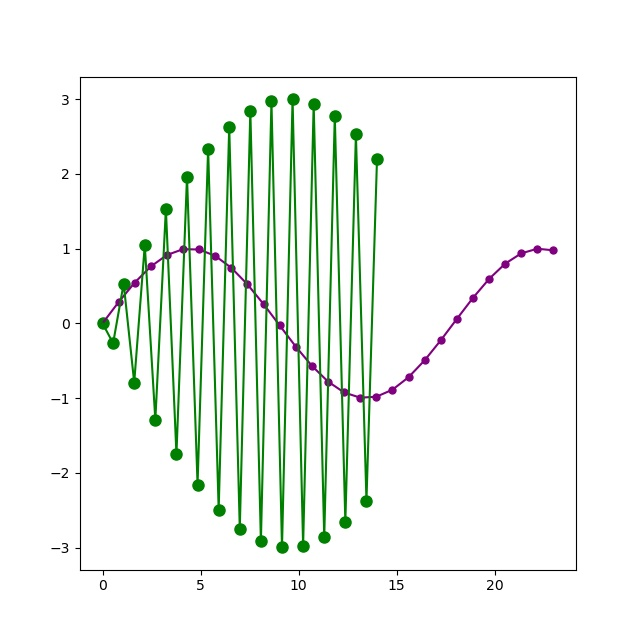circle: (97, 317, 110, 330), (107, 337, 120, 350), (118, 278, 131, 291), (128, 377, 141, 390), (139, 239, 152, 252), (149, 414, 162, 427), (160, 203, 173, 216), (170, 448, 183, 461), (181, 171, 194, 184), (192, 479, 205, 492), (202, 143, 215, 156), (213, 504, 226, 517), (223, 121, 236, 134), (234, 523, 247, 536), (244, 105, 257, 118), (255, 535, 268, 548), (265, 95, 278, 108), (276, 541, 289, 554), (287, 93, 300, 106), (297, 540, 310, 553), (308, 98, 321, 111), (318, 531, 331, 544), (329, 110, 342, 123), (339, 516, 352, 529), (350, 128, 363, 141), (360, 495, 373, 508), (371, 153, 384, 166), (98, 319, 108, 329), (114, 298, 124, 308), (130, 278, 140, 288), (146, 262, 156, 272), (162, 250, 172, 260), (179, 245, 189, 255), (195, 245, 205, 255), (211, 251, 221, 261), (227, 263, 237, 273), (243, 280, 253, 290), (259, 300, 269, 310), (275, 321, 285, 331), (291, 342, 301, 352), (307, 361, 317, 371), (324, 377, 334, 387), (340, 388, 350, 398), (356, 393, 366, 403), (372, 392, 382, 402), (388, 385, 398, 395), (404, 373, 414, 383), (420, 356, 430, 366), (436, 336, 446, 346), (452, 314, 462, 324), (468, 293, 478, 303), (485, 274, 495, 284), (501, 259, 511, 269), (517, 249, 527, 259), (533, 244, 543, 254), (549, 246, 559, 256)
